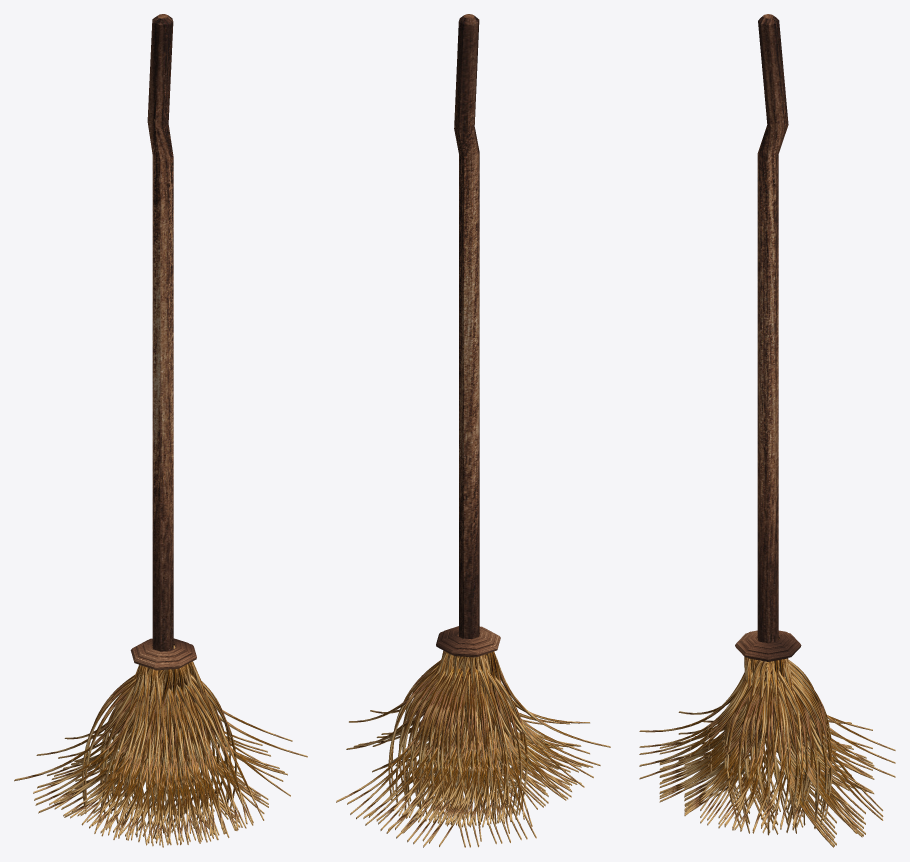
Rendered from Broom.fbx.
3 renders of one model, left to right at view 1: azimuth 30°, elevation 25°; view 2: azimuth 150°, elevation 25°; view 3: azimuth 270°, elevation 25°, orthographic.
Parts seen in each view (by area): view 1: pasted__pCylinder119; view 2: pasted__pCylinder119; view 3: pasted__pCylinder119.
Boxes of the visible parts, box(x1,y1,x2,y2) form: pasted__pCylinder119: box(14, 14, 307, 847); pasted__pCylinder119: box(336, 14, 610, 847); pasted__pCylinder119: box(639, 14, 895, 847).
Size of the model in its own units: 38.12 by 120 by 34.32.
2 materials, 2 textured.
